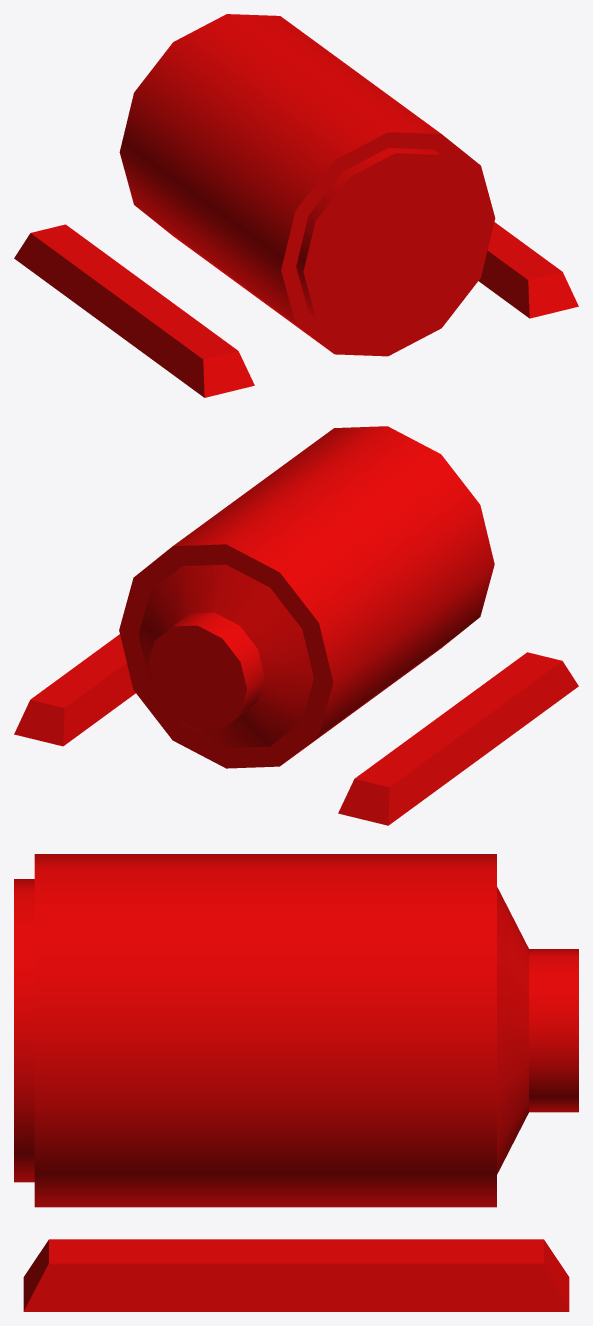
File: battWarningModel.fbx
3 views of the same model, one above another, from view 1: azimuth 30°, elevation 25°; view 2: azimuth 150°, elevation 25°; view 3: azimuth 270°, elevation 25° (orthographic). The views are drawn at different scales.
Parts seen in each view (by area): view 1: WarningModel; view 2: WarningModel; view 3: WarningModel.
Boxes of the visible parts, bbox=[...] form: WarningModel: bbox=[14, 14, 578, 397]; WarningModel: bbox=[14, 426, 578, 825]; WarningModel: bbox=[14, 854, 578, 1311].
Bounding box in the file's own units: 91.13 × 52.16 × 83.16.
